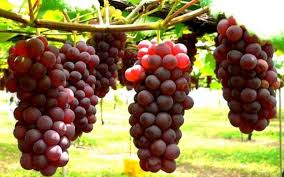anggur: (125, 30, 196, 176), (6, 31, 72, 177), (213, 15, 280, 146), (62, 33, 103, 145), (84, 25, 128, 103)
